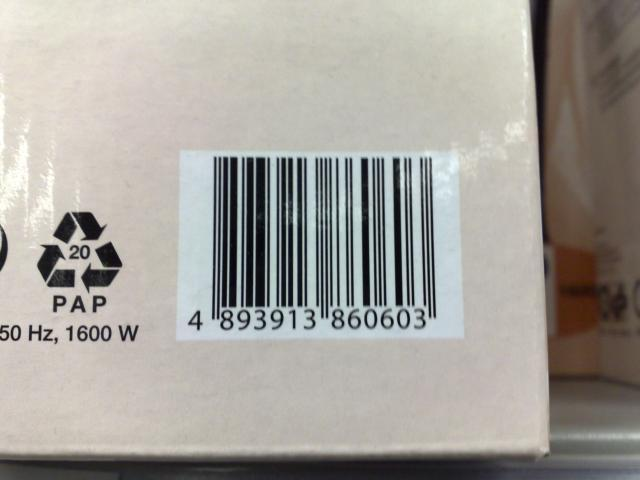Barcode: (182, 149, 461, 338)
